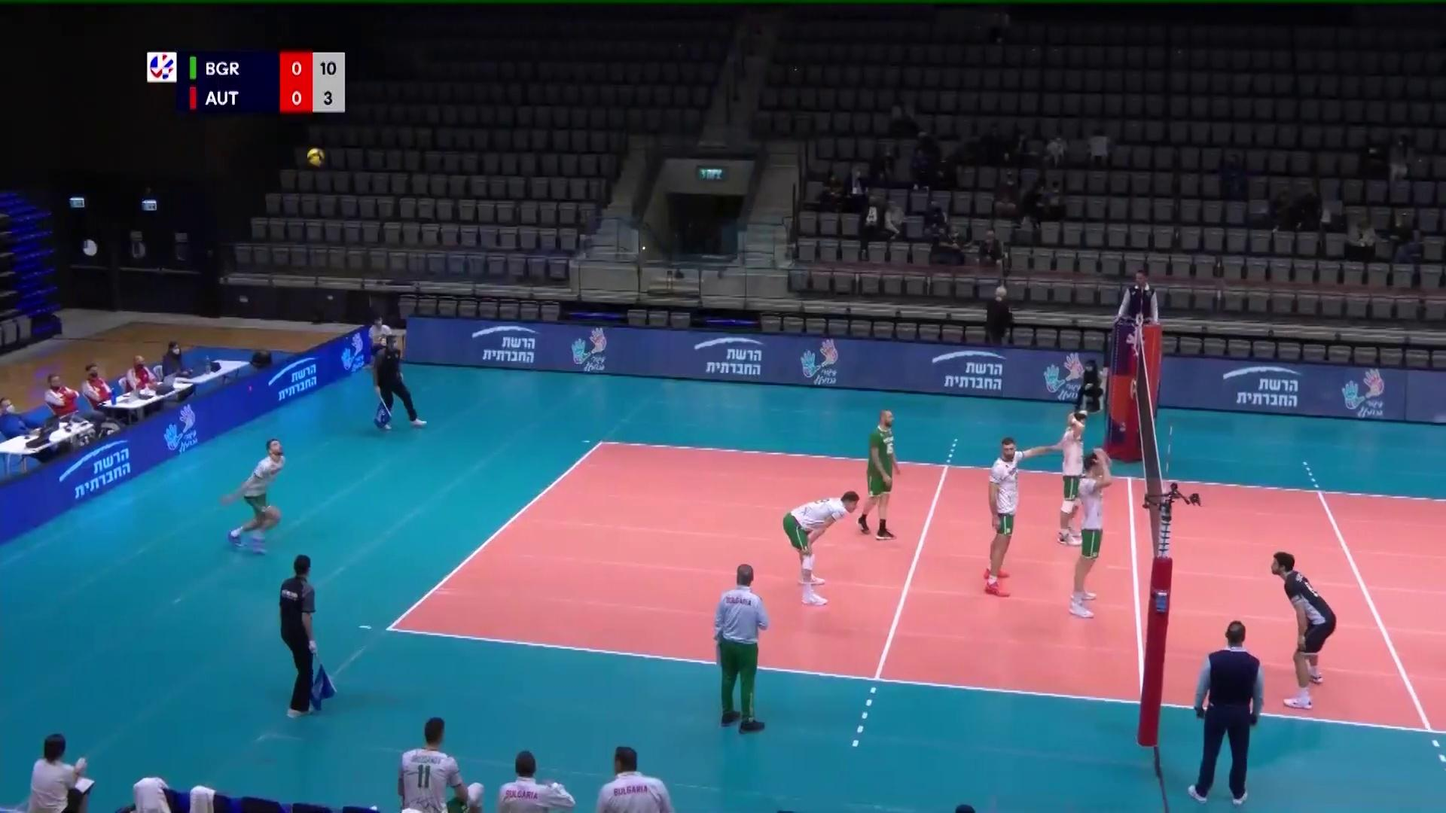ball: (306, 148, 326, 167)
